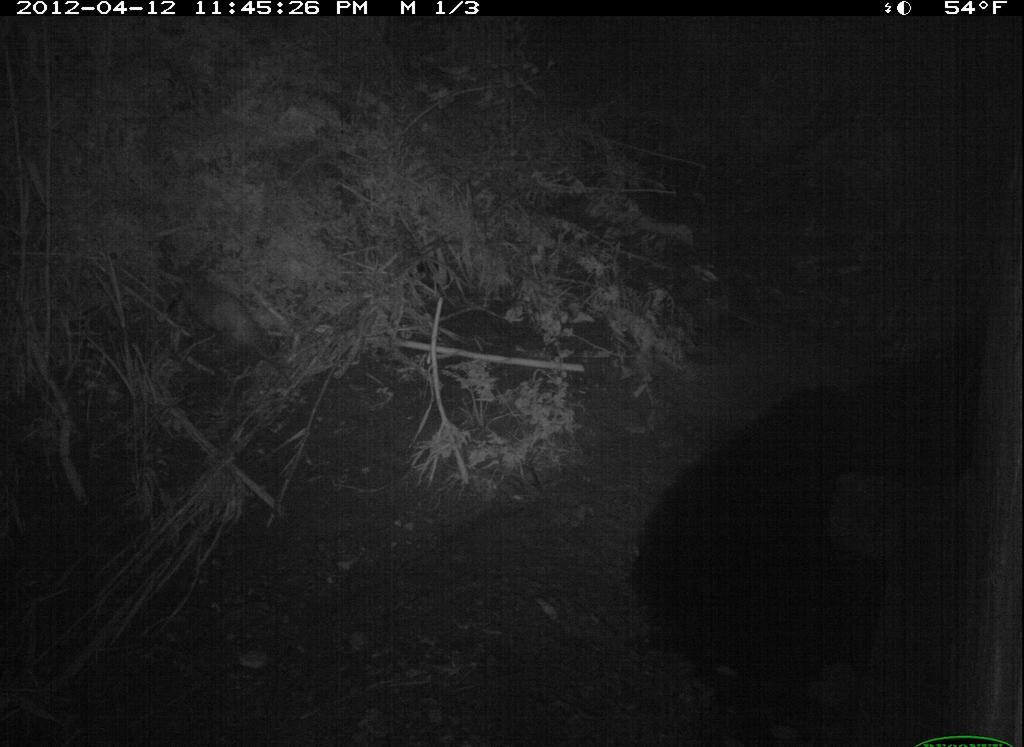opossum: (168, 259, 291, 382)
